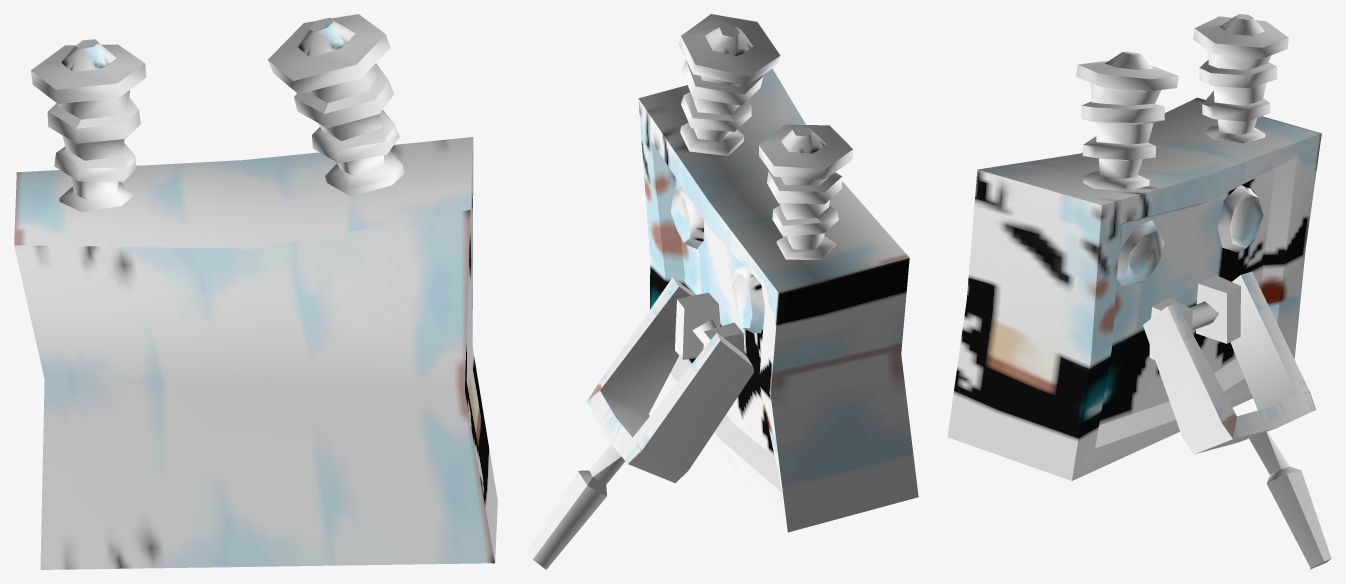
The model's file is static.ico.obj.
3 views of the same model, side by side, from view 1: azimuth 30°, elevation 25°; view 2: azimuth 150°, elevation 25°; view 3: azimuth 270°, elevation 25° (orthographic). The views are drawn at different scales.
Size of the model in its own units: 1.93 by 2.79 by 2.04.
